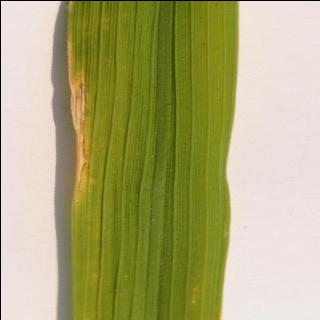Hawar-Daun: (56, 36, 102, 212)
